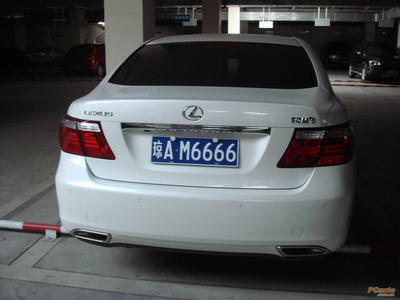plate_number: (150, 136, 240, 167)
